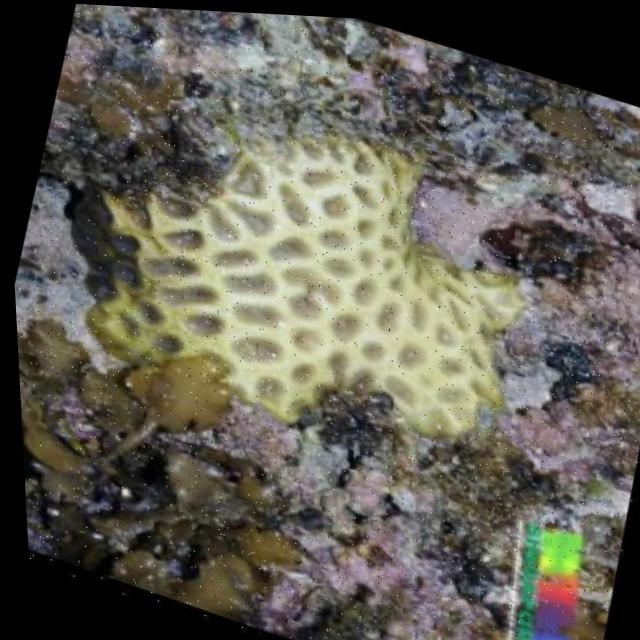Bleached Coral: (2, 55, 538, 464)
